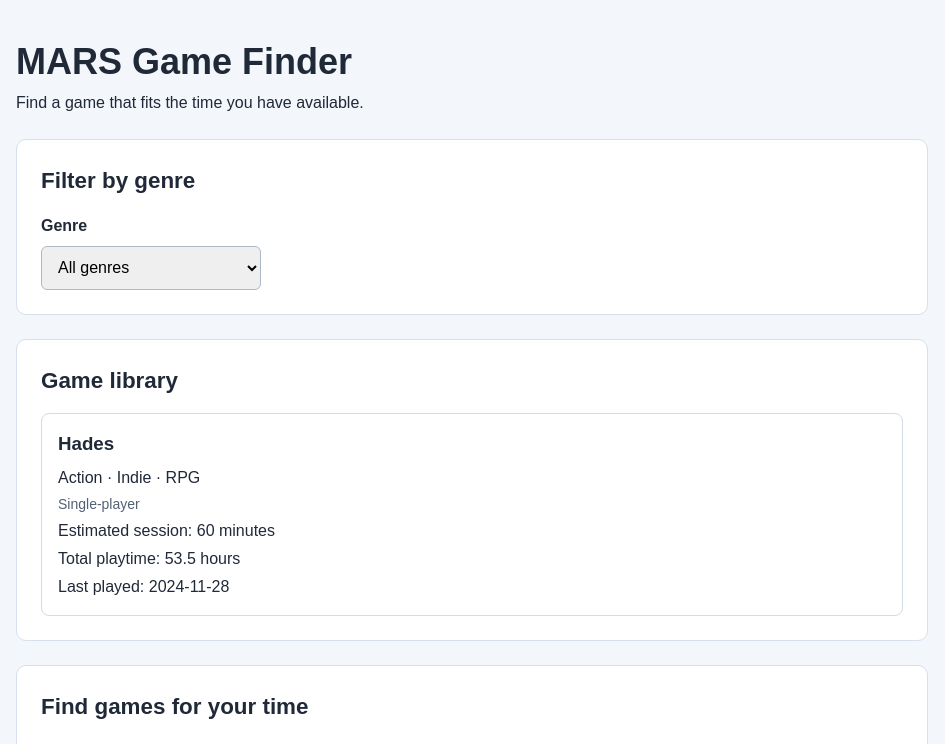
Test case: Iteration 3 player flow › filters the library and searches with the selected genre, then restores All genres
Expected: the heading "Hades" is shown, [58, 433, 114, 454]
Select "RPG" in the dropdown labelled "Genre": (151, 268) [41, 246, 261, 290]
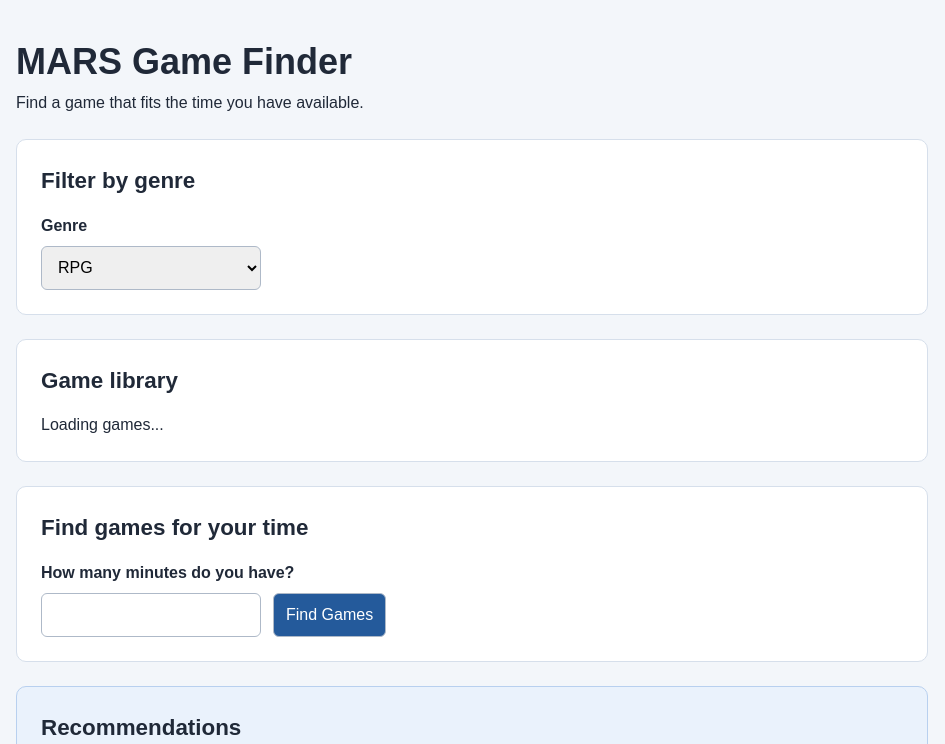
In the field labelled "How many minutes do you have?": (151, 615) [41, 593, 261, 637], type "60"
(page scrolled)
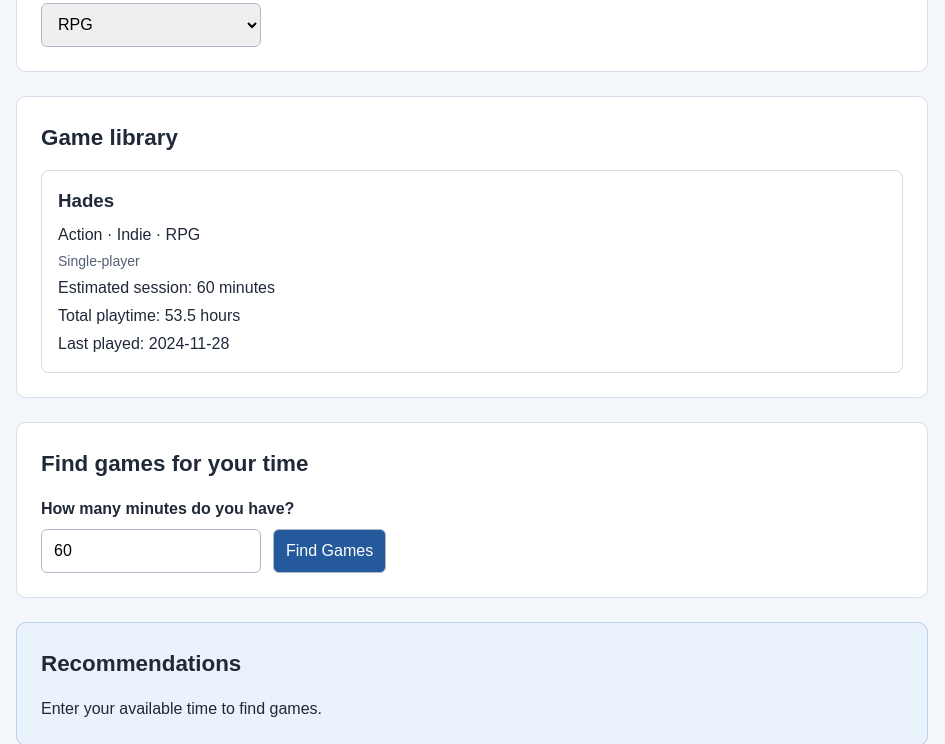
Click the button "Find Games": (330, 551) [273, 529, 386, 573]
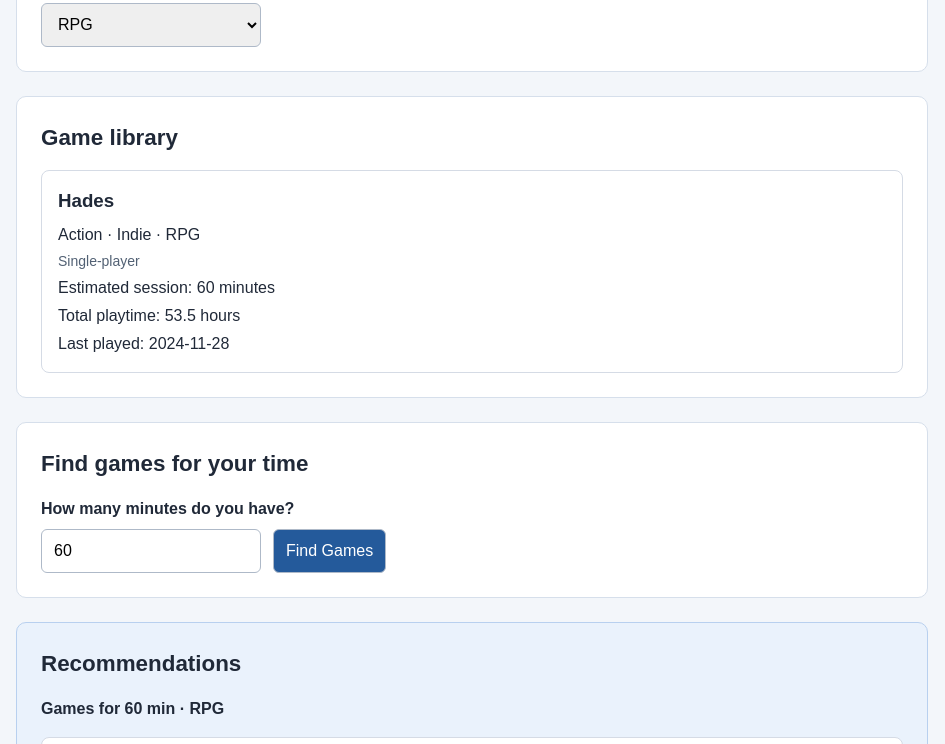
Result: the text "Games for 60 min · RPG" is shown at [41, 700, 224, 717]
Select "All genres" in the dropdown labelled "Genre": (151, 25) [41, 3, 261, 47]
(page scrolled)
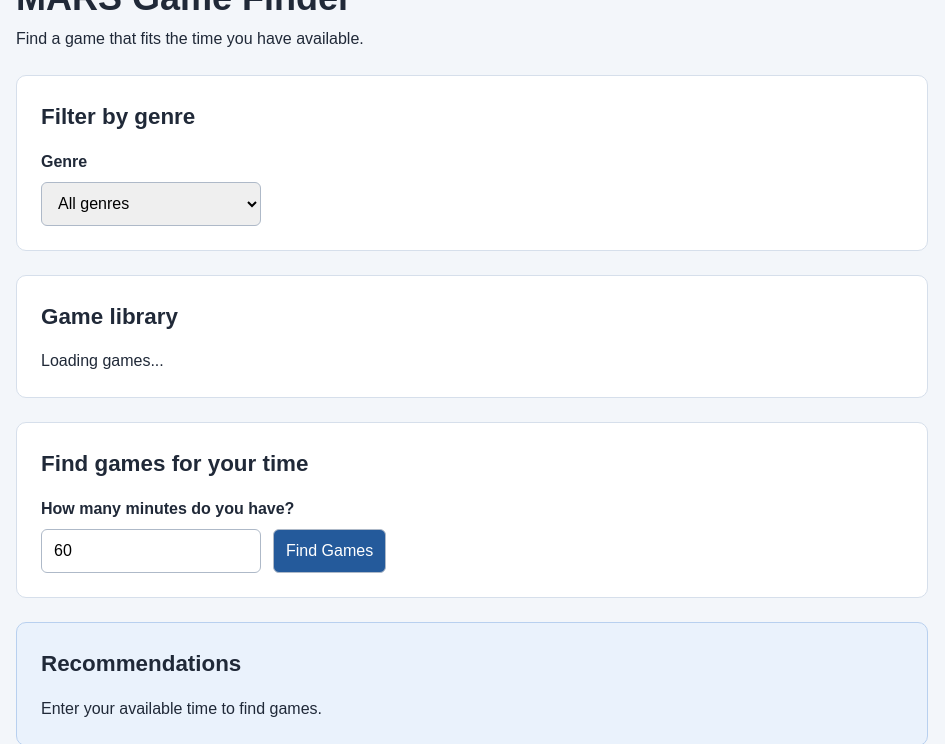
Click the button "Find Games": (330, 551) [273, 529, 386, 573]
(page scrolled)
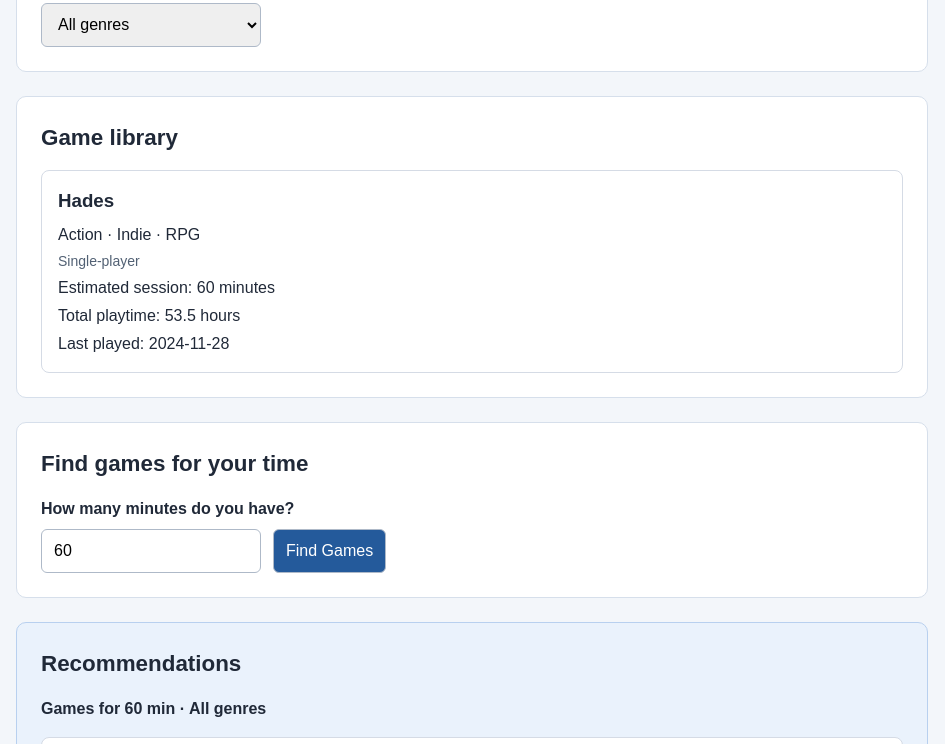
Result: the text "Games for 60 min · All genres" is shown at [41, 700, 266, 717]
